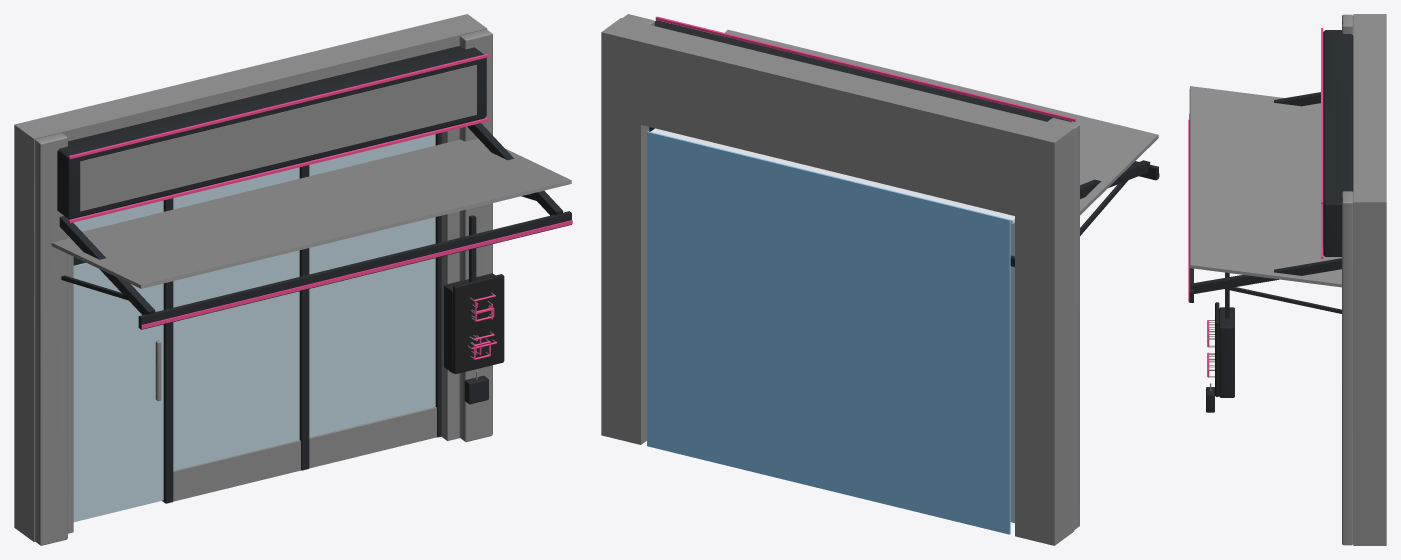
File: Building_Facade_Concrete_Shop_Awning.fbx
3 renders of one model, left to right at view 1: azimuth 30°, elevation 25°; view 2: azimuth 150°, elevation 25°; view 3: azimuth 270°, elevation 25°, orthographic. The views are drawn at different scales.
Parts seen in each view (by area): view 1: Building_Facade_Concrete_Shop_Awning_LOD0; view 2: Building_Facade_Concrete_Shop_Awning_LOD0; view 3: Building_Facade_Concrete_Shop_Awning_LOD0.
Part boxes in pixels (x1,y1,x2,y2): Building_Facade_Concrete_Shop_Awning_LOD0: [14, 14, 572, 545]; Building_Facade_Concrete_Shop_Awning_LOD0: [601, 14, 1159, 545]; Building_Facade_Concrete_Shop_Awning_LOD0: [1188, 14, 1386, 545].
Size of what is drawn, in the model's own units: 4 by 3.4 by 1.78.
